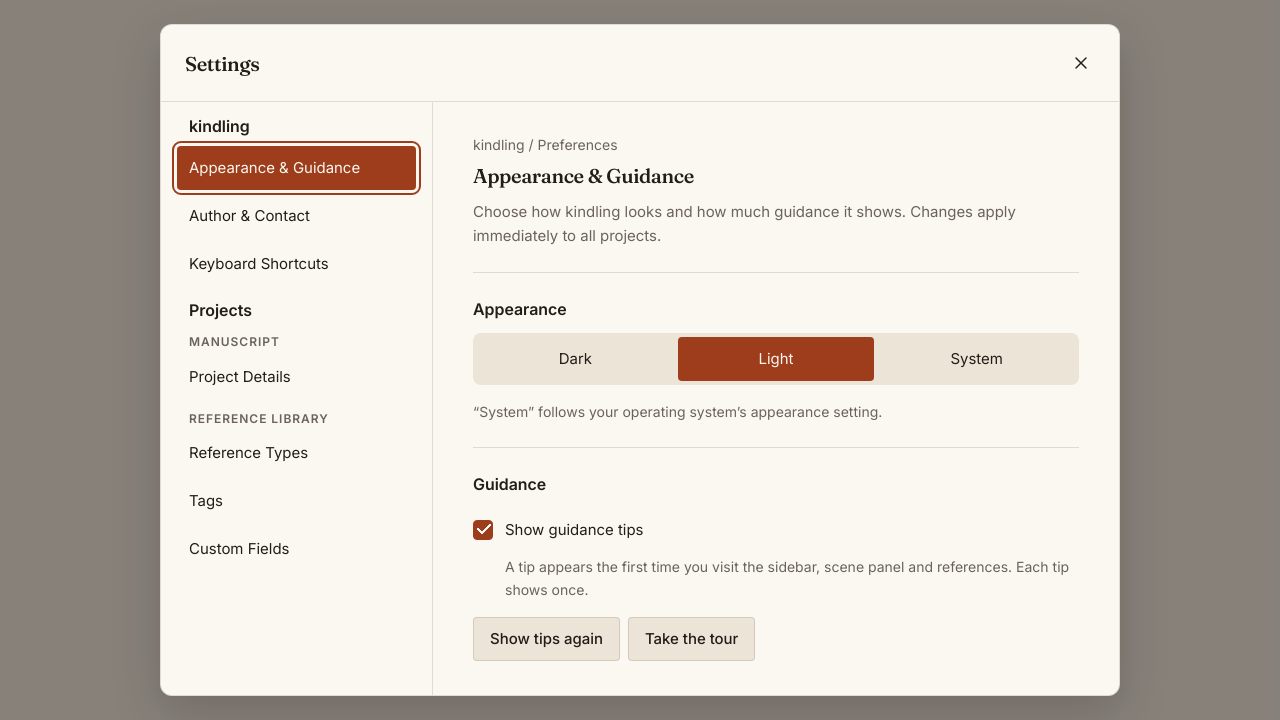
Test: keeps app settings available without projects and retries a failed project list
Expected: the radio button labelled "Light" is shown, [678,337,874,381]
Click the button "Project Details" at (296, 377), box [177,355,416,399]
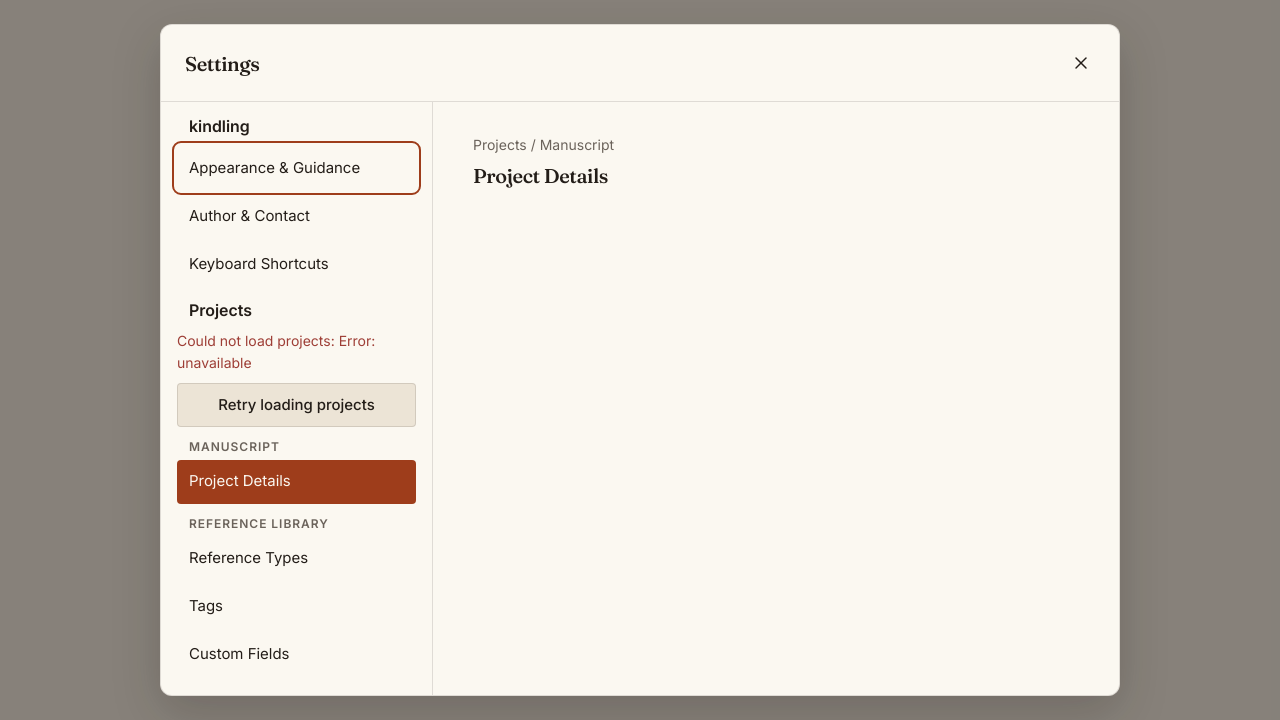
Expected: the text "Could not load projects: Error: unavailable" is shown, [177,332,375,371]
Click the button "Retry loading projects" at (296, 405), box [177,383,416,427]
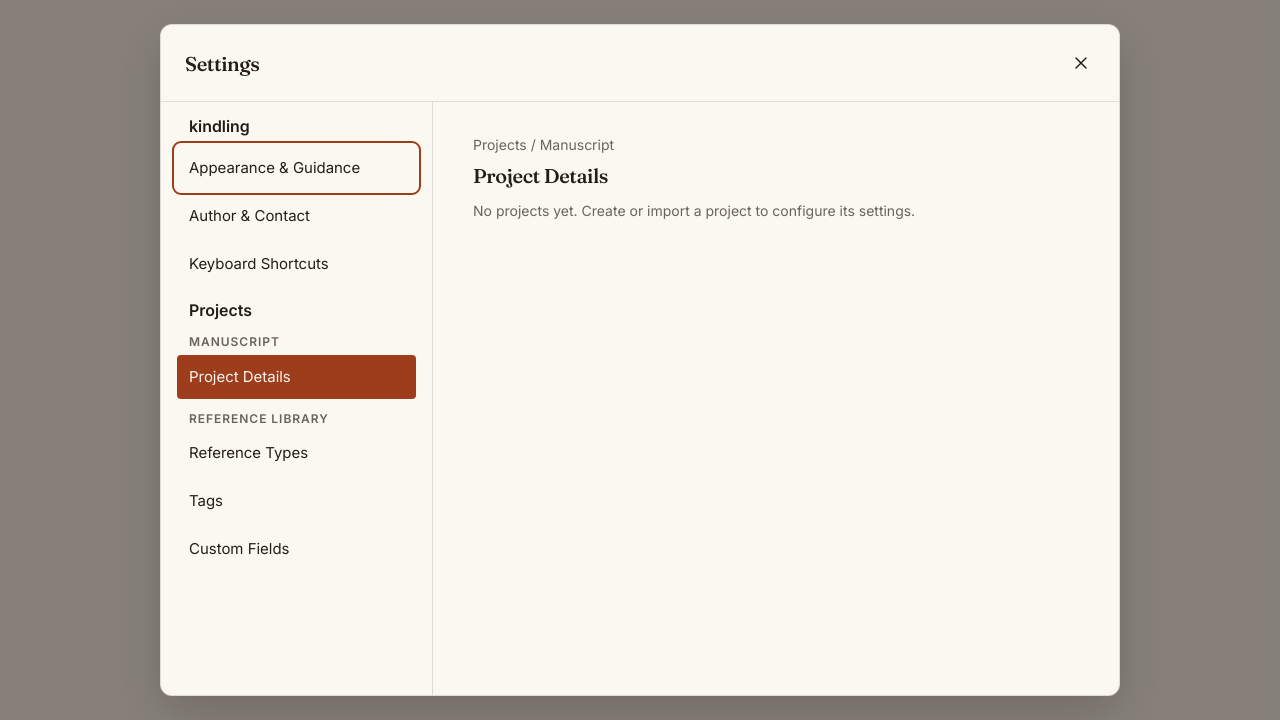
Expected: the text "No projects yet" is shown, [473,202,915,219]
Click the button "Author & Contact" at (296, 216), box [177,194,416,238]
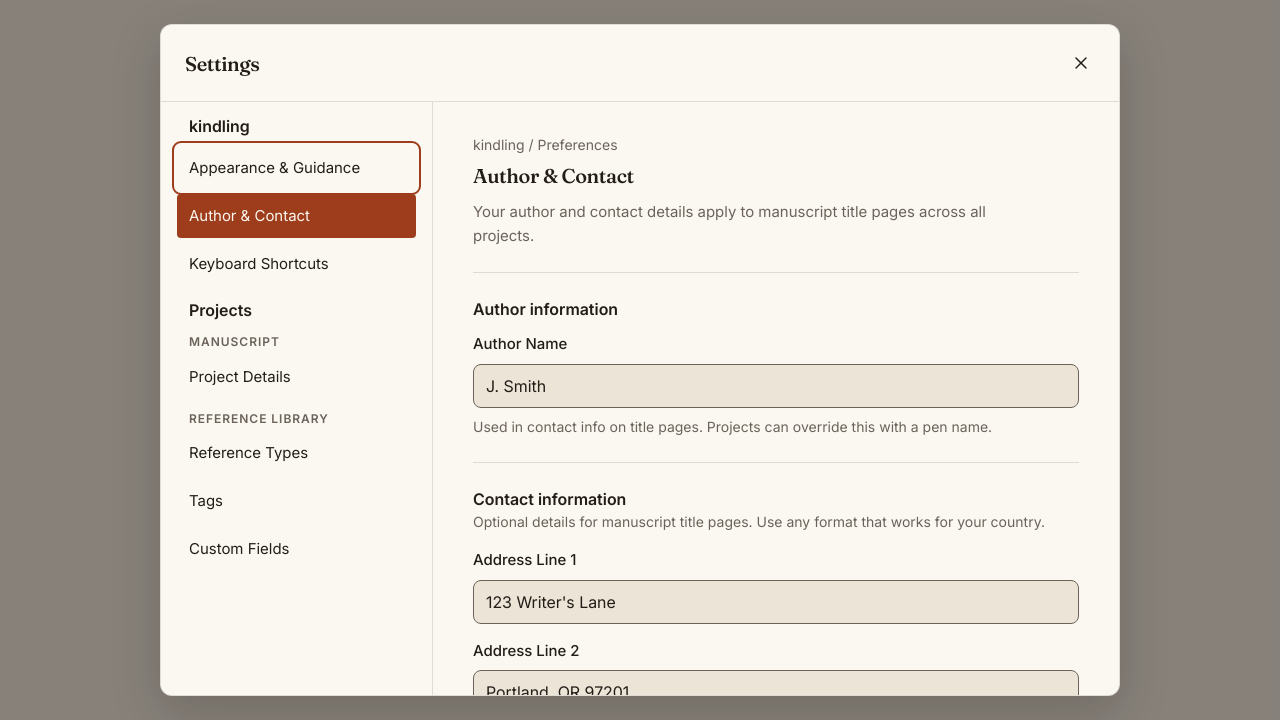
Expected: the field labelled "Author Name" is shown, [473,364,1079,408]
